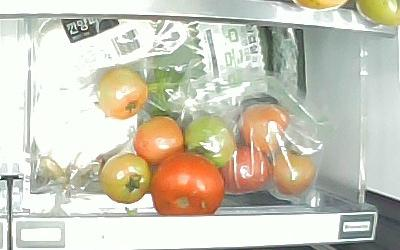tomato: (150, 153, 224, 217), (99, 152, 150, 204), (99, 67, 148, 120), (133, 116, 186, 164)
tomato_vinyl: (183, 114, 235, 168), (238, 103, 291, 155), (218, 145, 274, 194), (272, 152, 316, 197)
